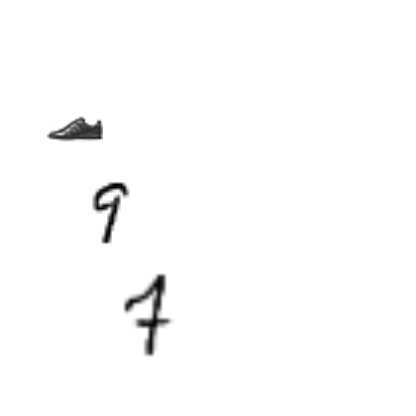1: (304, 310, 388, 394)
2: (20, 177, 34, 191)
5: (268, 38, 324, 94)
8: (232, 169, 246, 183)
Bag: (8, 324, 64, 380)
Dress: (131, 351, 187, 407), (284, 162, 340, 218)
Sneaker: (157, 155, 241, 239), (189, 324, 217, 352)
